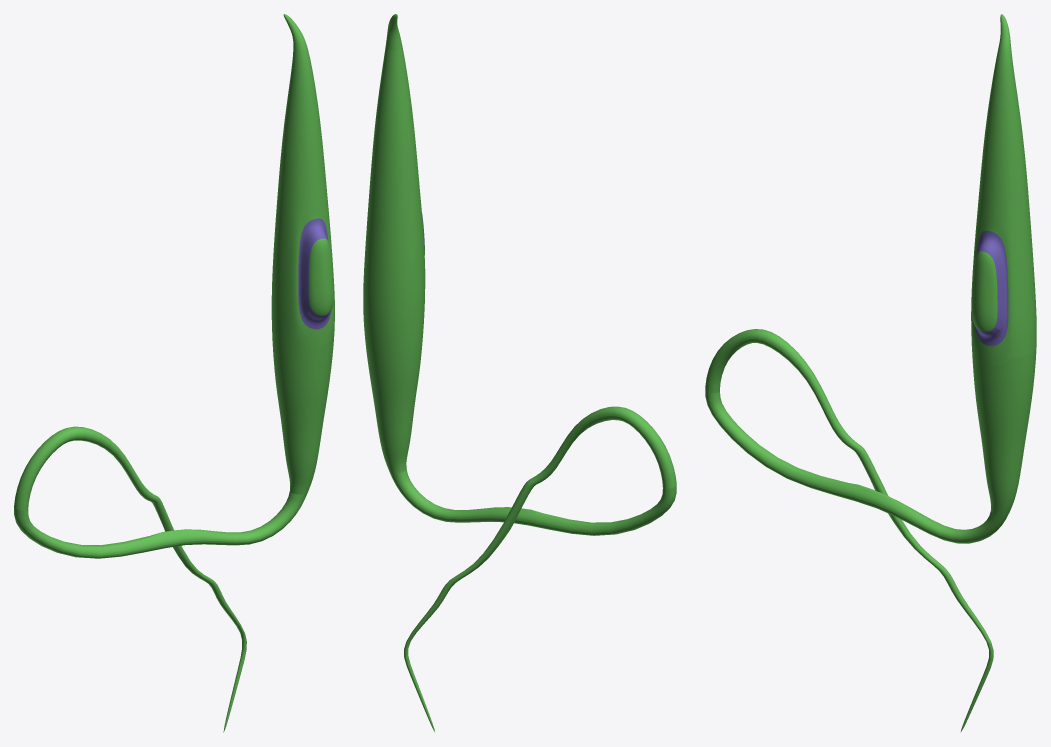
Rendered from microbe_2.fbx.
The picture shows the model from 3 angles, left to right: view 1: azimuth 30°, elevation 25°; view 2: azimuth 150°, elevation 25°; view 3: azimuth 330°, elevation 25°; orthographic projection. The views are drawn at different scales.
Parts seen in each view (by area): view 1: Cylinder.007; view 2: Cylinder.007; view 3: Cylinder.007.
Boxes of the visible parts, <box> form: Cylinder.007: <box>14,14,334,732</box>; Cylinder.007: <box>363,14,676,731</box>; Cylinder.007: <box>705,14,1036,732</box>.
Bounding box in the file's own units: 746 × 1617 × 194.
